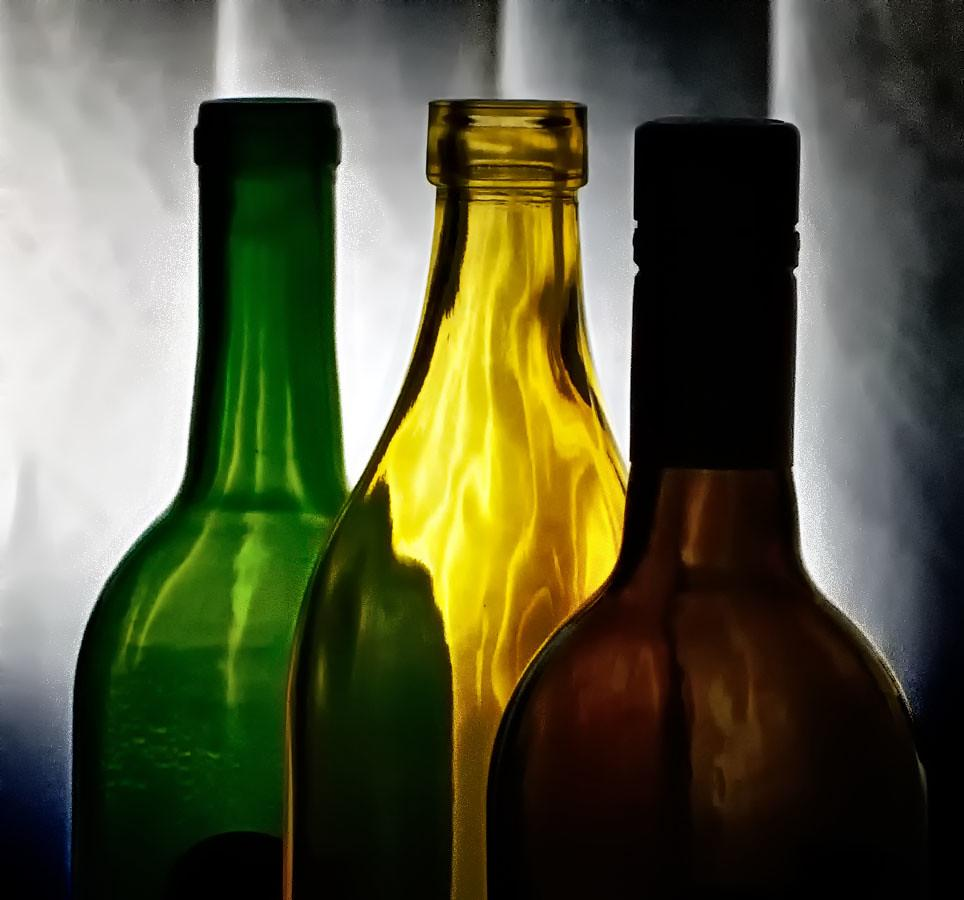bottle: (484, 115, 931, 899), (282, 98, 631, 899), (70, 97, 352, 899)
